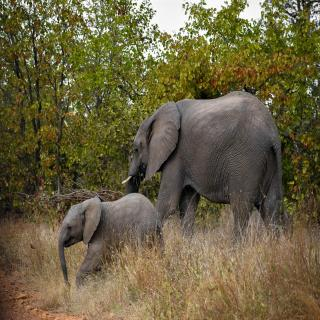Elephant: (123, 84, 292, 238), (56, 188, 166, 286)
